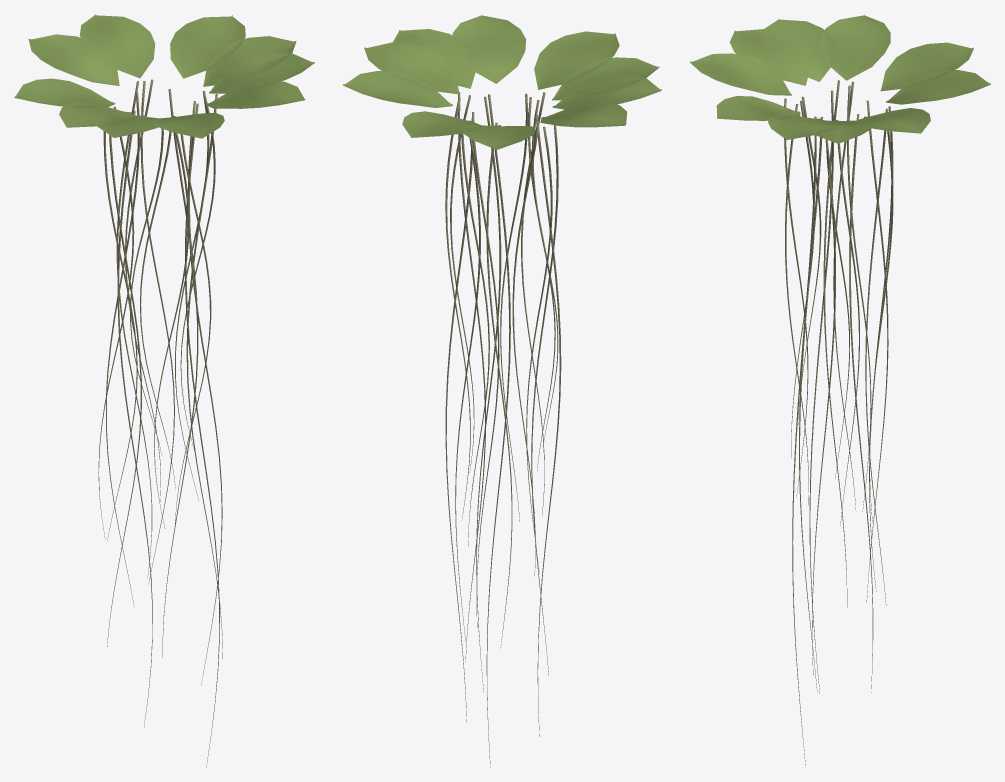
Rendered from salvinia-mobile.glb.
3 renders of one model, left to right at view 1: azimuth 30°, elevation 25°; view 2: azimuth 150°, elevation 25°; view 3: azimuth 270°, elevation 25°, orthographic. The views are drawn at different scales.
Parts seen in each view (by area): view 1: floating-leaf, hanging-root; view 2: floating-leaf, hanging-root; view 3: floating-leaf, hanging-root.
Part boxes in pixels (x1,y1,x2,y2): floating-leaf: (14,14,314,138); hanging-root: (98,79,222,767); floating-leaf: (343,14,661,149); hanging-root: (445,92,561,767); floating-leaf: (690,15,990,143); hanging-root: (784,80,893,767).
Bounding box in the file's own units: 0.3177 × 0.779 × 0.3142.
